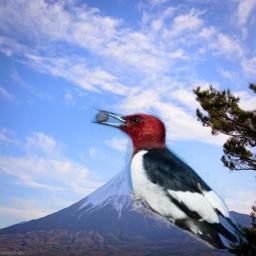Woodpecker: (90, 106, 247, 249)
